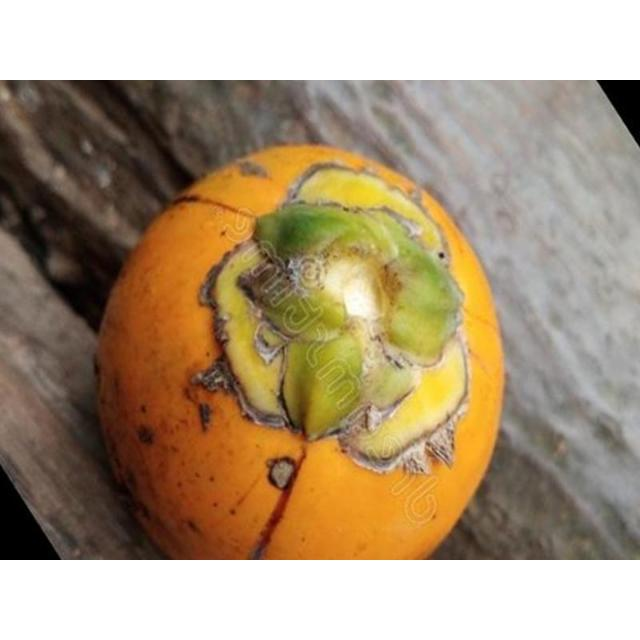good: (94, 143, 506, 559)
